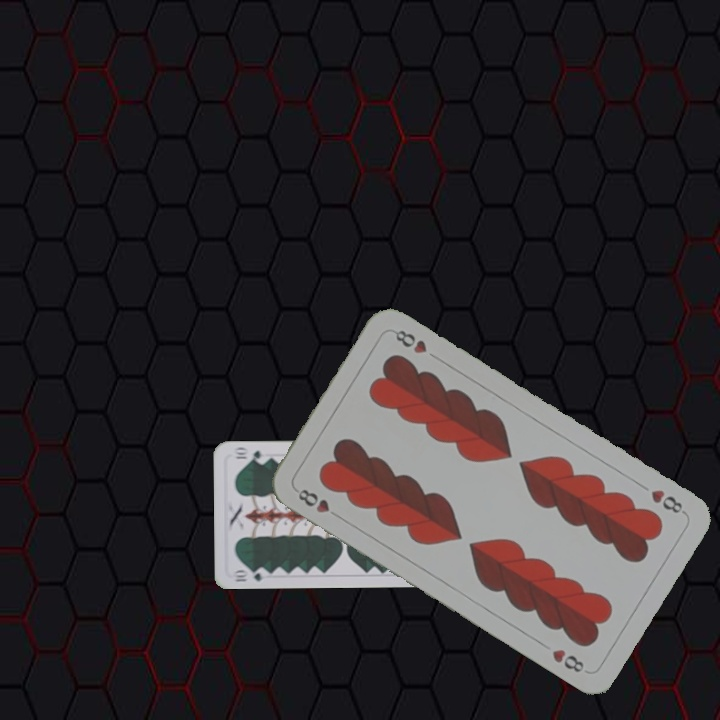G10: (229, 564, 270, 584)
H8: (294, 484, 344, 522), (646, 485, 689, 517)
